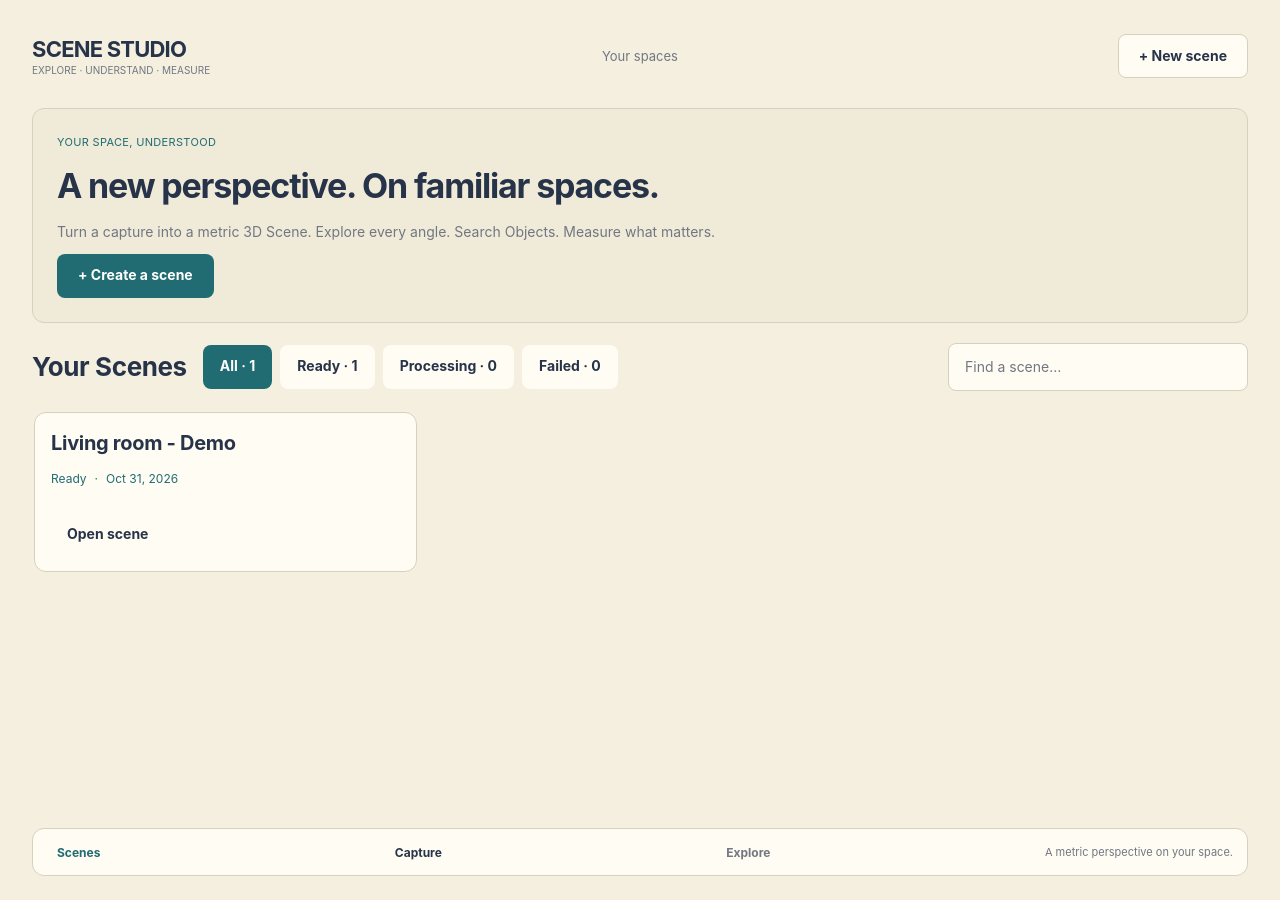
Scenario: Scene filters and Search can be cleared without leaving the library
Check: the link "Open scene" is shown, box [51,514,400,554]
Click the button "Processing · 0": coordinates (448, 366) [383,344,514,388]
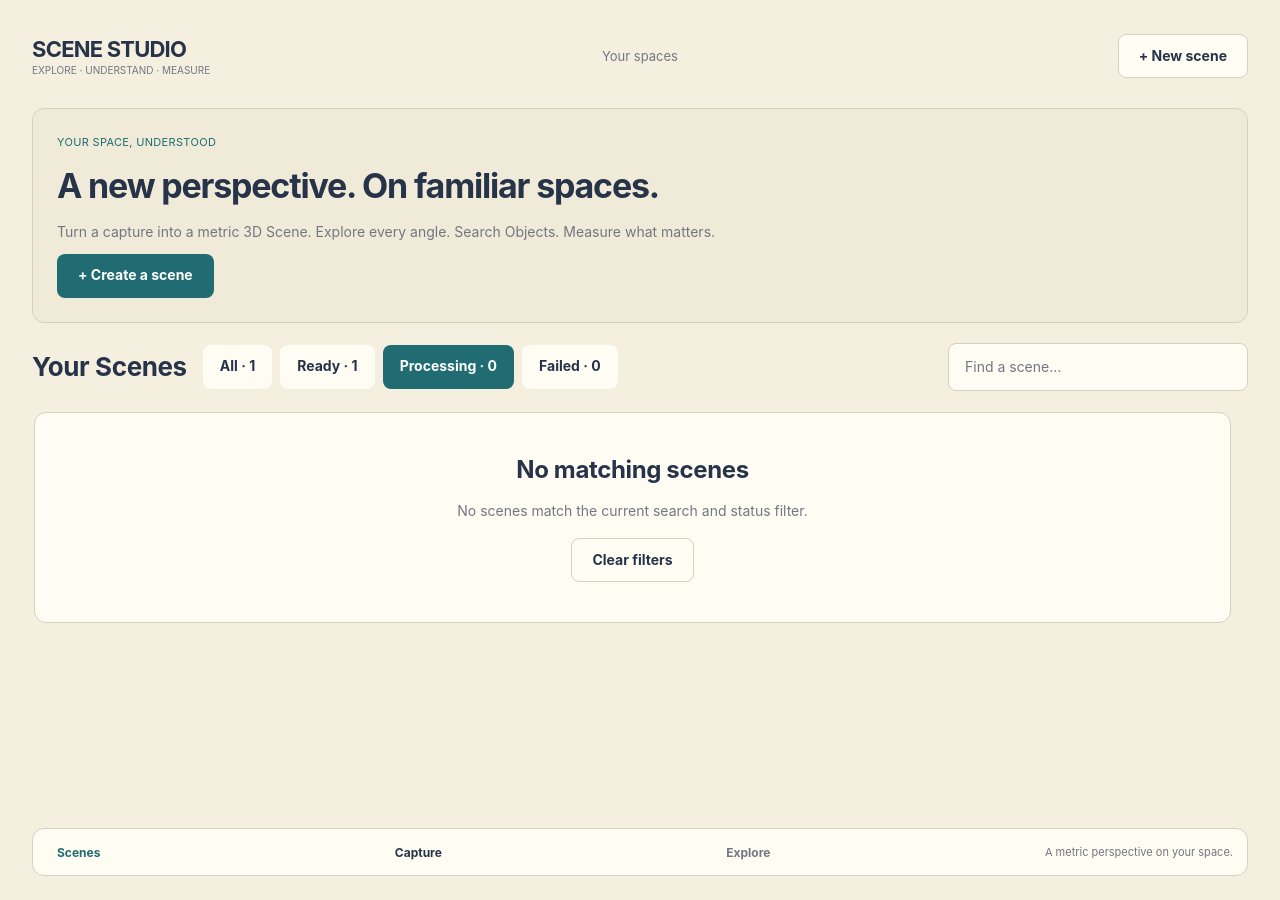
Check: the heading "No matching scenes" is shown, box [516,454,749,484]
Click the button "Clear filters": coordinates (632, 560) [571,538,694,582]
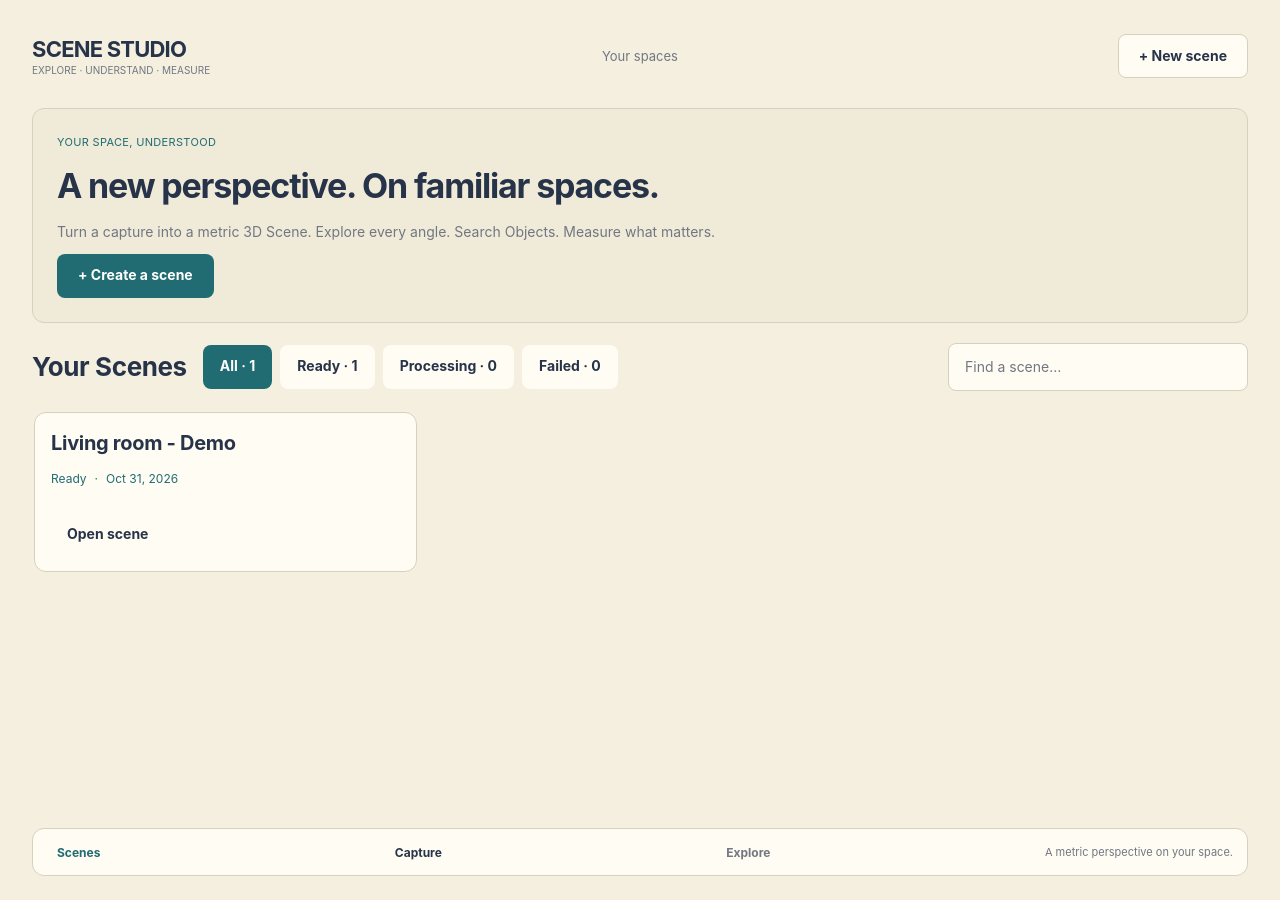
Check: the link "Open scene" is shown, box [51,514,400,554]
In the search field labelled "Find a scene…": coordinates (1098, 366) [948,342,1248,390], type "unmatched capture"
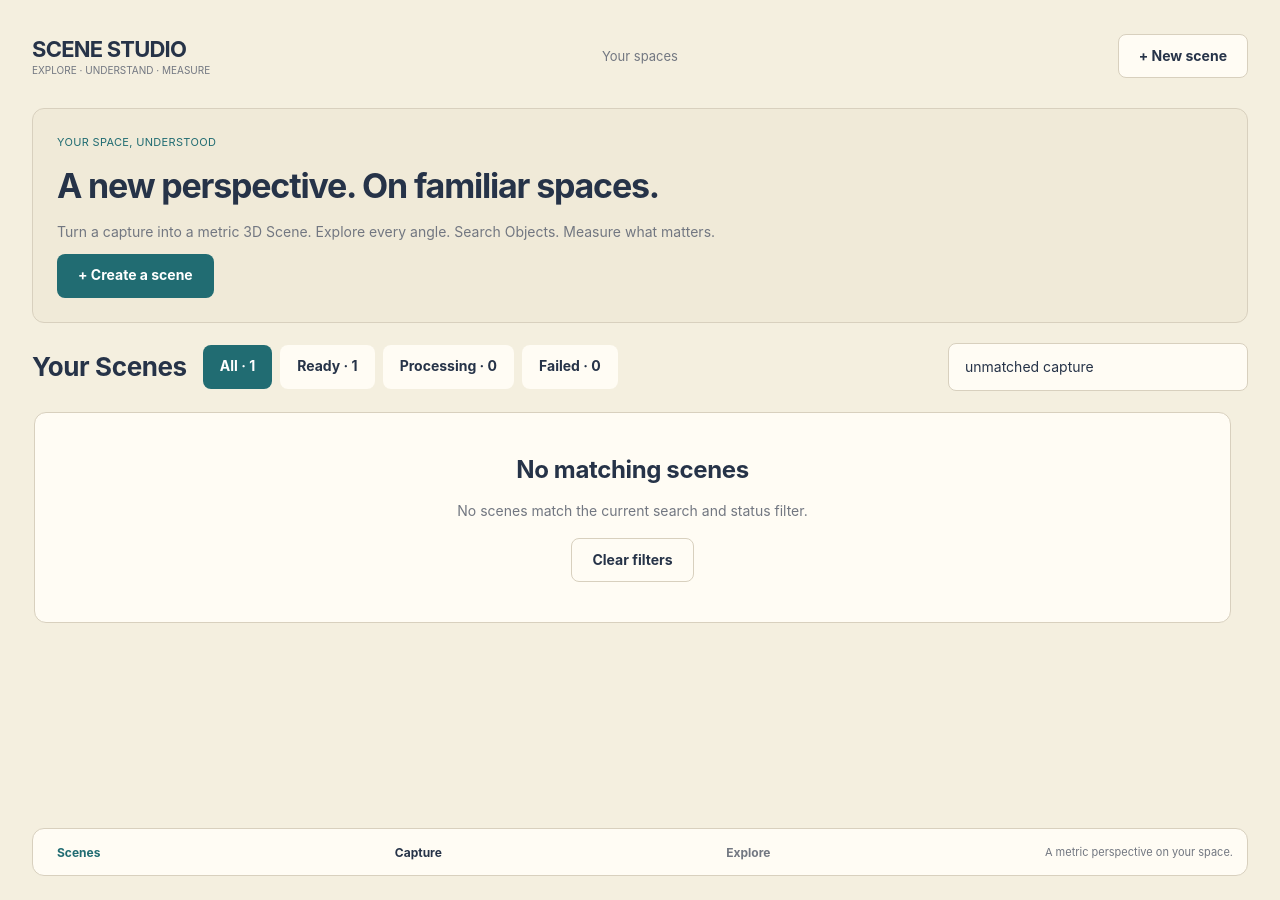
Check: the link "Open scene" is gone
Click the button "Clear filters": coordinates (632, 560) [571,538,694,582]
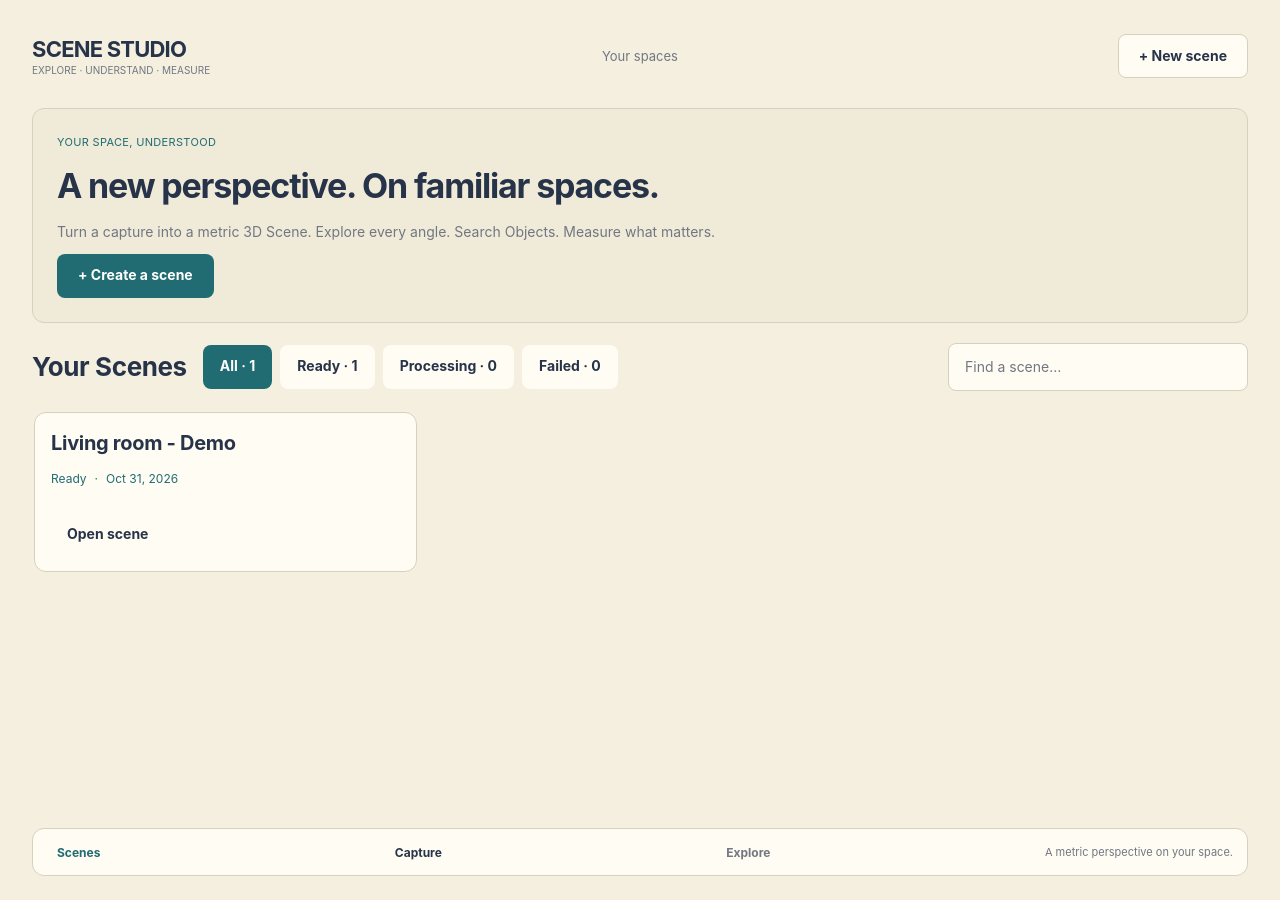
Check: the link "Open scene" is shown, box [51,514,400,554]
